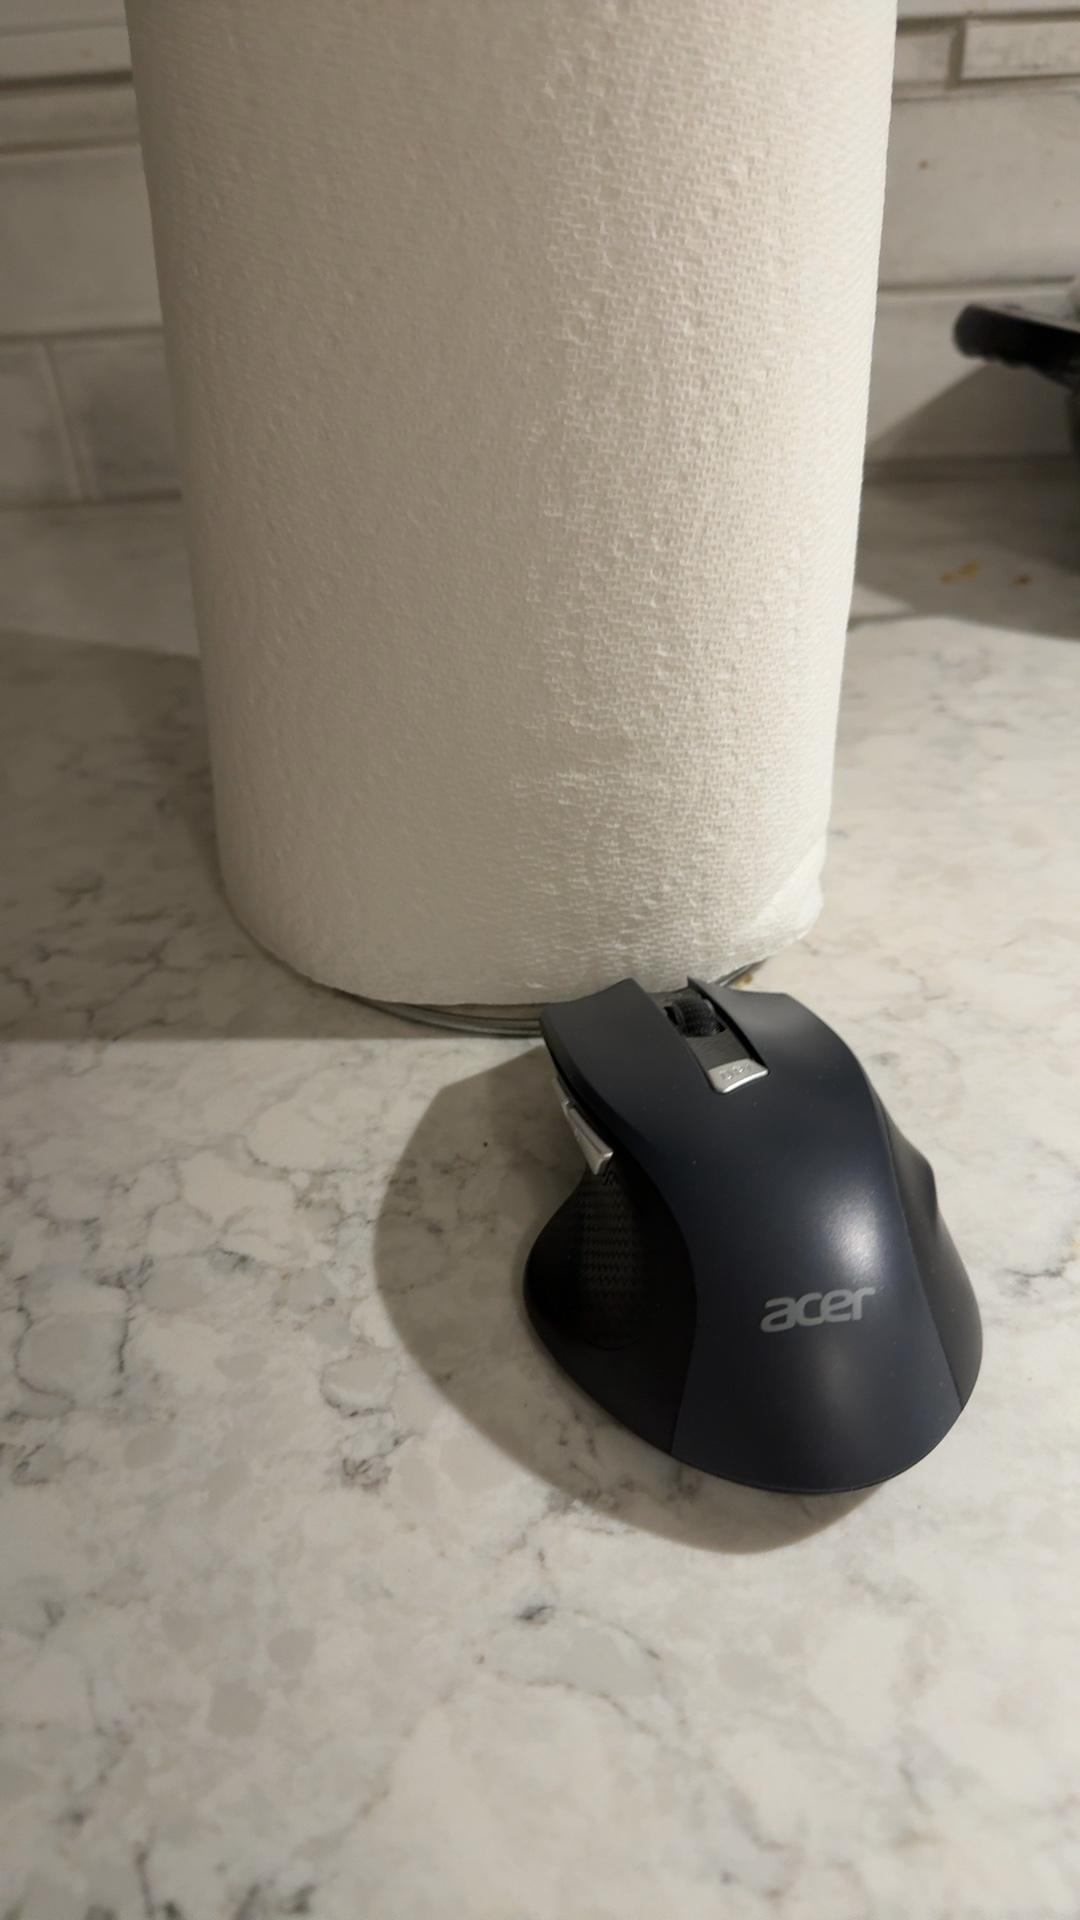Aulaf75: (500, 972, 1022, 1507)
